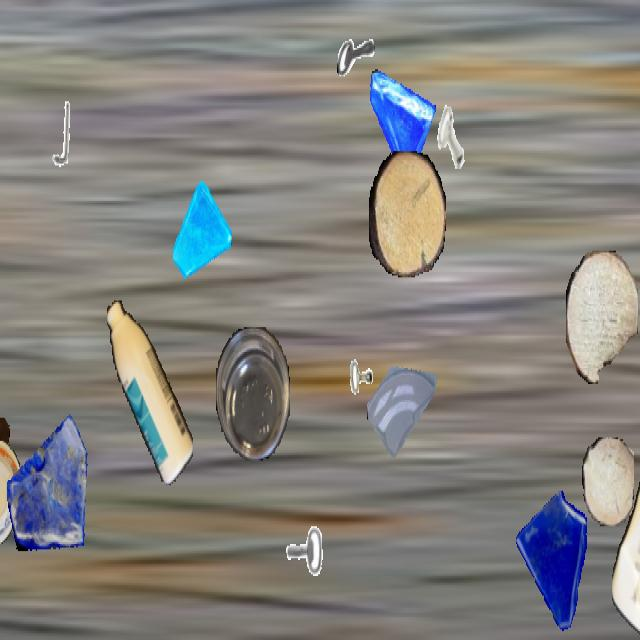glass: (7, 404, 93, 556), (512, 489, 596, 638), (367, 336, 439, 464), (366, 64, 436, 188), (173, 182, 231, 284)
metal: (426, 92, 478, 185), (275, 522, 325, 612), (334, 355, 382, 441), (40, 98, 80, 169), (337, 21, 375, 89)
plastic: (107, 300, 193, 486), (216, 327, 290, 459), (612, 390, 640, 638), (0, 441, 23, 547), (0, 310, 12, 483)
wood: (369, 151, 445, 276), (566, 251, 638, 382), (582, 438, 634, 526)
